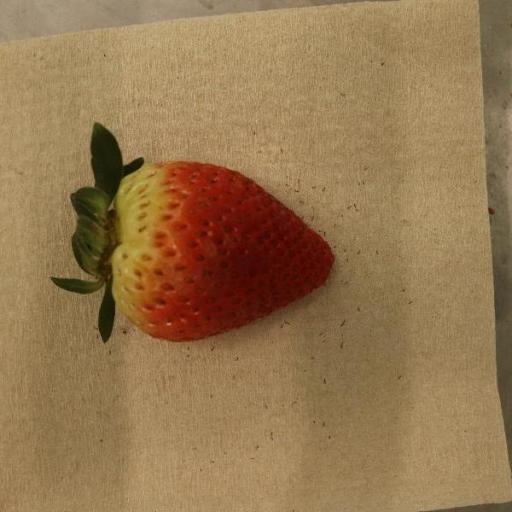Strawberry: (50, 123, 336, 343)
